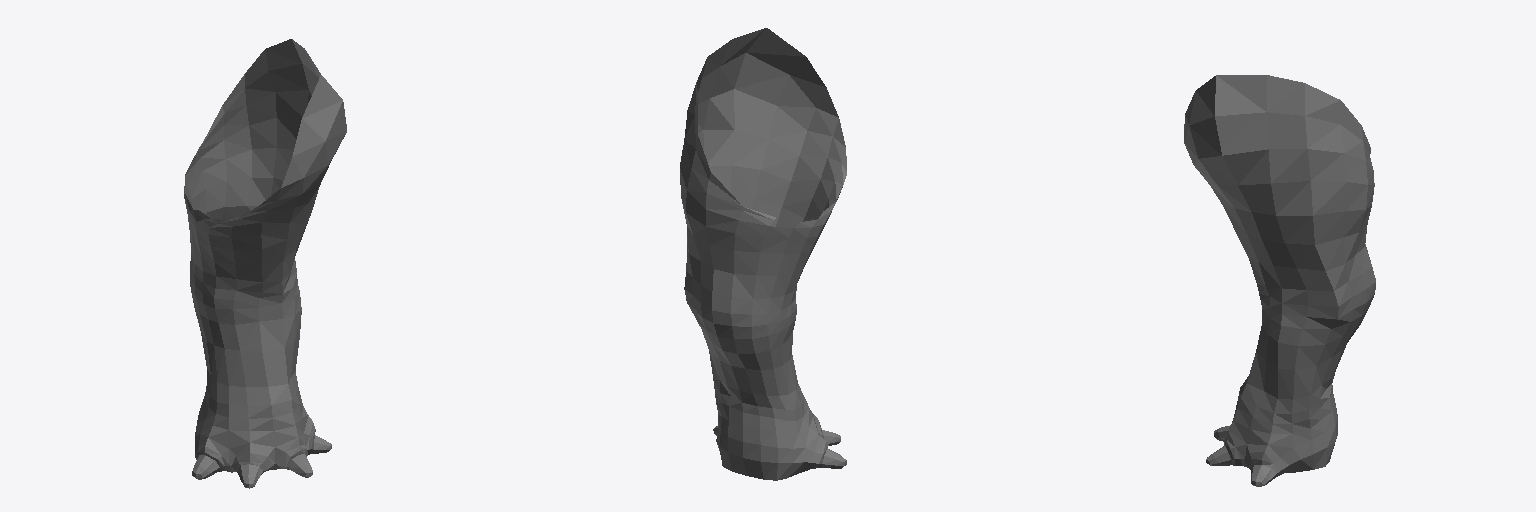
File: PataSupIzq.obj
The picture shows the model from 3 angles: view 1: azimuth 30°, elevation 25°; view 2: azimuth 150°, elevation 25°; view 3: azimuth 270°, elevation 25°; orthographic projection.
Visible parts, largest first — view 1: PataSupIzq; view 2: PataSupIzq; view 3: PataSupIzq.
Boxes of the visible parts, <box> form: PataSupIzq: <box>184,39,346,488</box>; PataSupIzq: <box>680,28,846,480</box>; PataSupIzq: <box>1184,75,1375,486</box>.
Bounding box in the file's own units: 12.47 × 34.46 × 14.89.